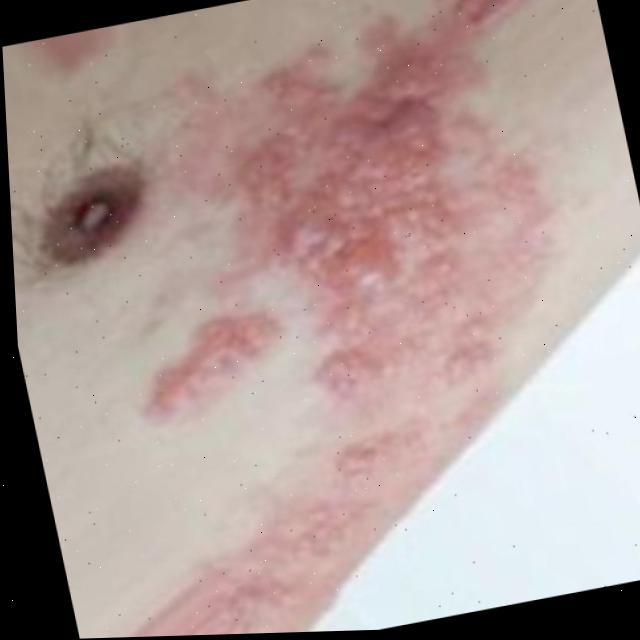Shingles: (229, 11, 584, 493), (144, 306, 295, 443), (223, 511, 366, 618)
